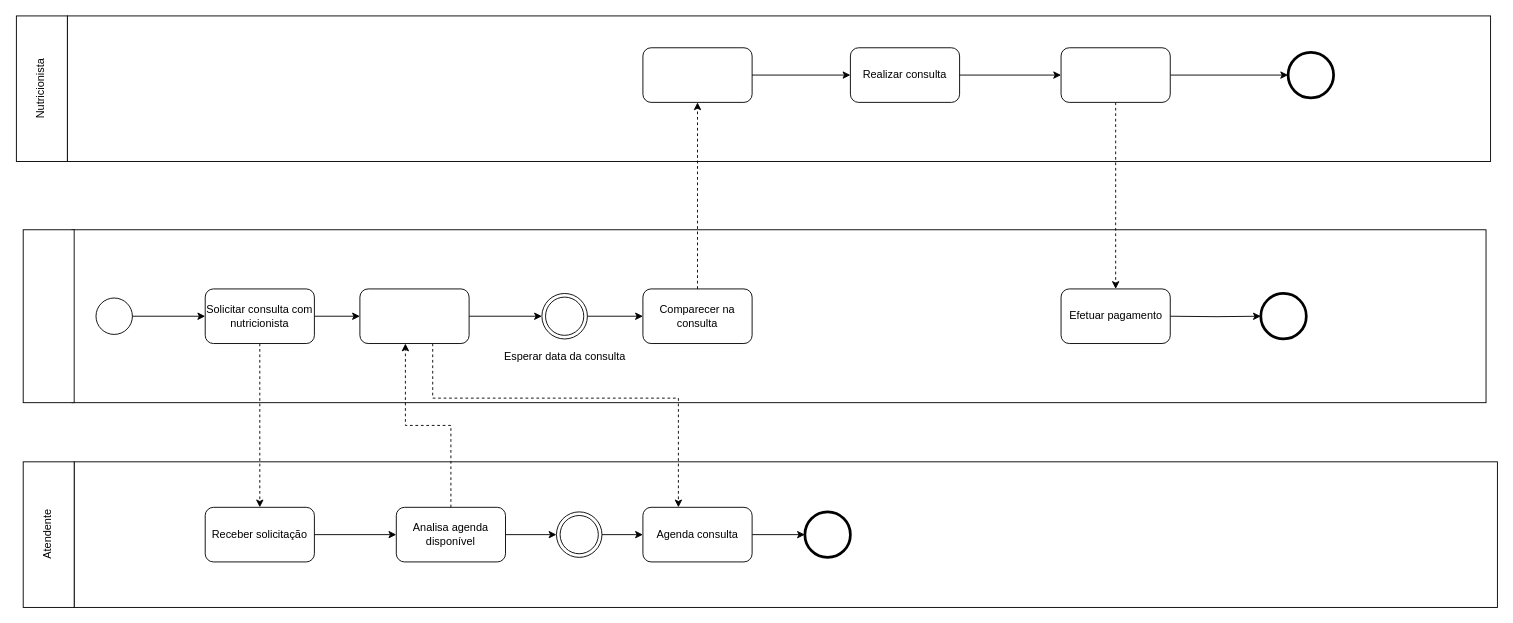
This 1513x623 diagram has some shape labels left out. Here are the shapes that lost their labels. From the top down, the centre of each, then its label:
the point at 697,74: Receber Aluno
the point at 1115,74: Montar a dieta
the point at 48,316: Aluno
the point at 414,316: Escolher data
